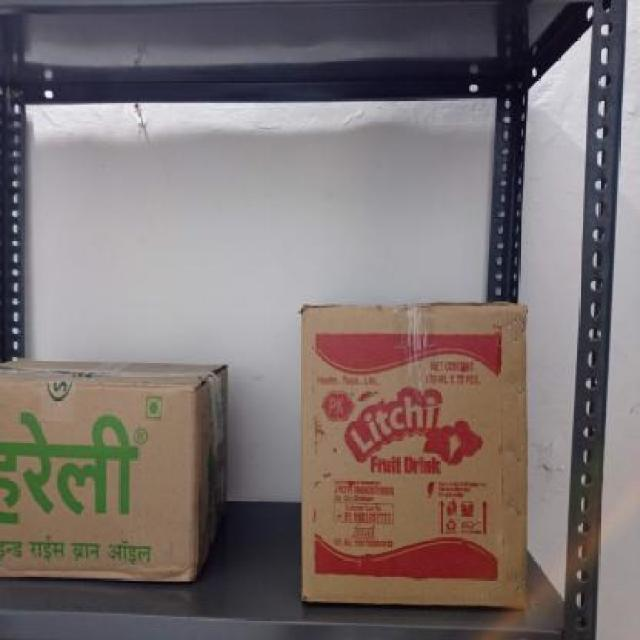box: (299, 305, 530, 607), (0, 385, 197, 571)
